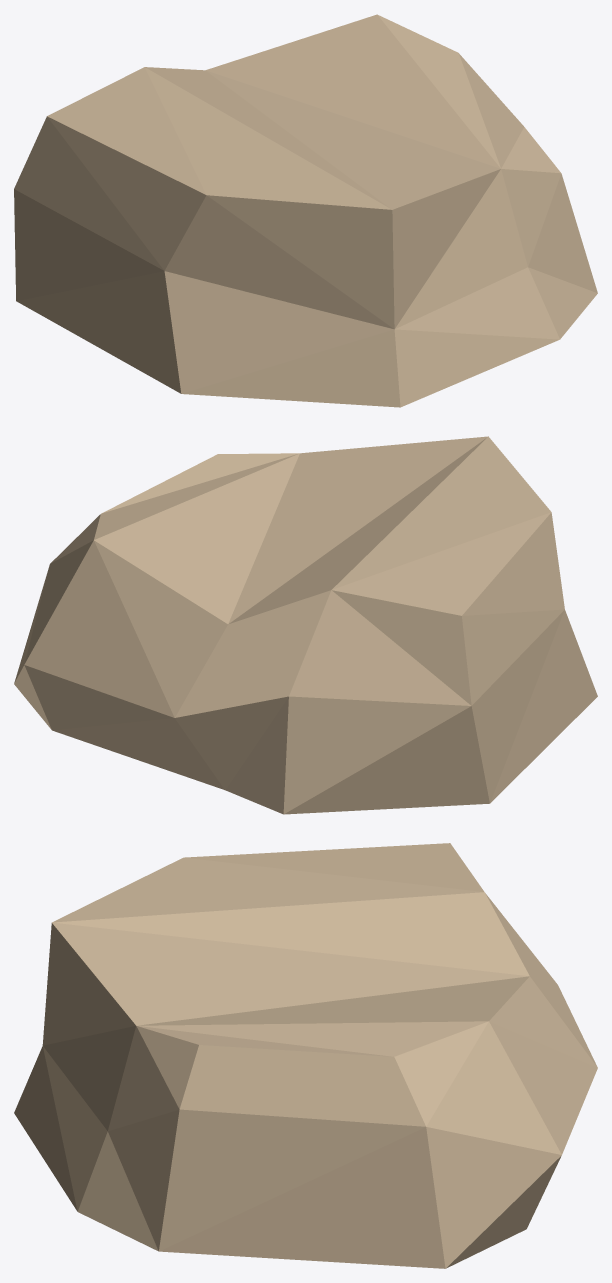
File: SM_Env_Rock_01.fbx
The picture shows the model from 3 angles, top to bottom: view 1: azimuth 30°, elevation 25°; view 2: azimuth 150°, elevation 25°; view 3: azimuth 270°, elevation 25°; orthographic projection. The views are drawn at different scales.
Visible parts, largest first — view 1: SM_Env_Rock_01; view 2: SM_Env_Rock_01; view 3: SM_Env_Rock_01.
Part boxes in pixels (box(x1,y1,x2,y2)): SM_Env_Rock_01: box(14, 14, 597, 407); SM_Env_Rock_01: box(14, 436, 597, 814); SM_Env_Rock_01: box(14, 843, 597, 1268).
Bounding box in the file's own units: 0.0033 × 0.00124 × 0.00326.
Materials: 1 (1 with a texture image).
